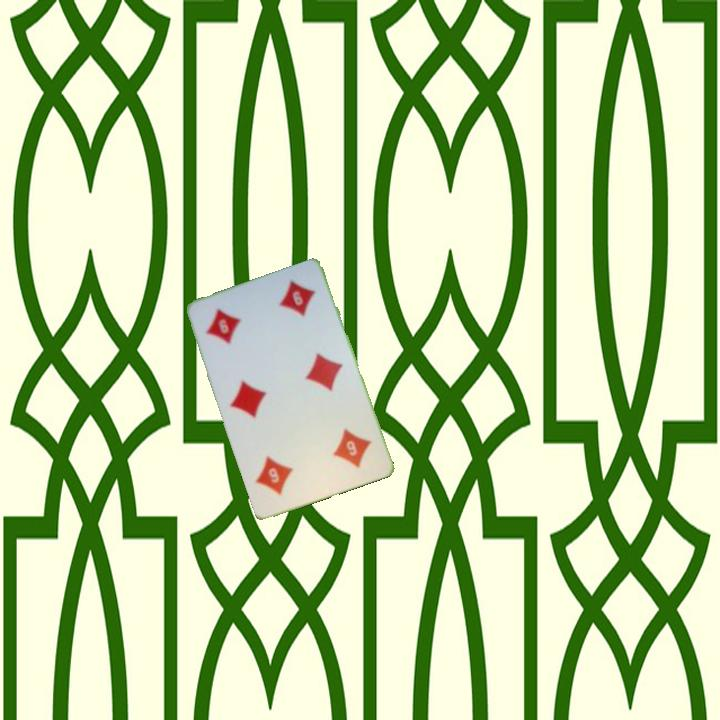d_6.png: (194, 289, 275, 364), (302, 413, 383, 488)
